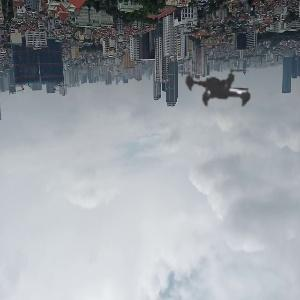drone: (154, 29, 287, 162)
